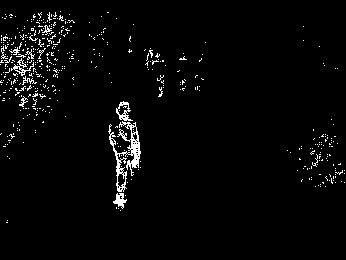person: (107, 99, 141, 208)
